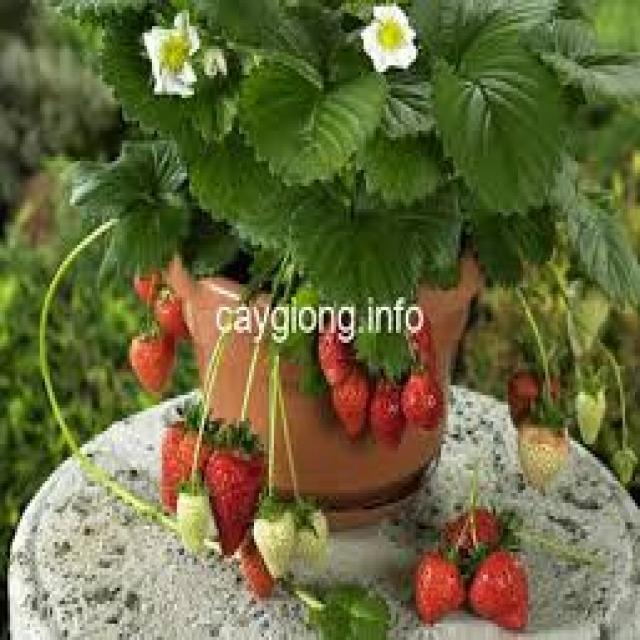Fruta sana: (194, 430, 264, 550), (150, 410, 214, 524), (474, 554, 530, 634), (503, 363, 569, 428), (444, 497, 504, 562), (402, 364, 447, 434), (411, 562, 464, 620), (132, 332, 178, 397), (316, 316, 354, 385), (374, 378, 408, 445), (336, 364, 366, 434), (150, 285, 190, 337), (132, 254, 162, 310)
